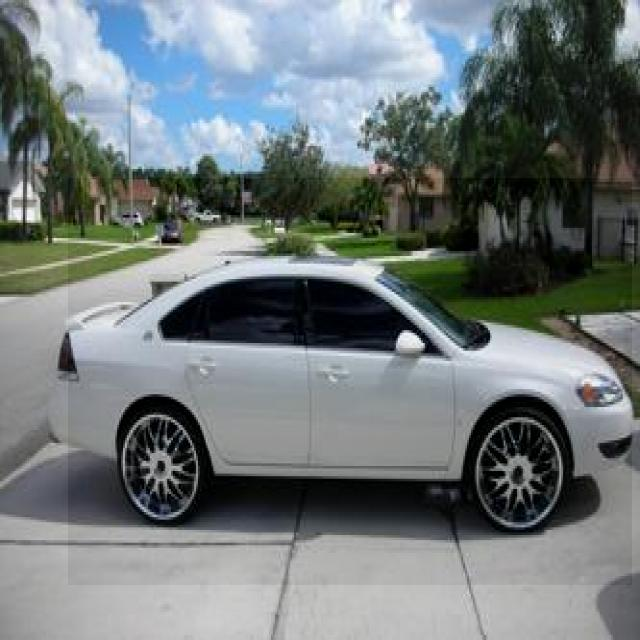Car: (68, 178, 632, 585)
